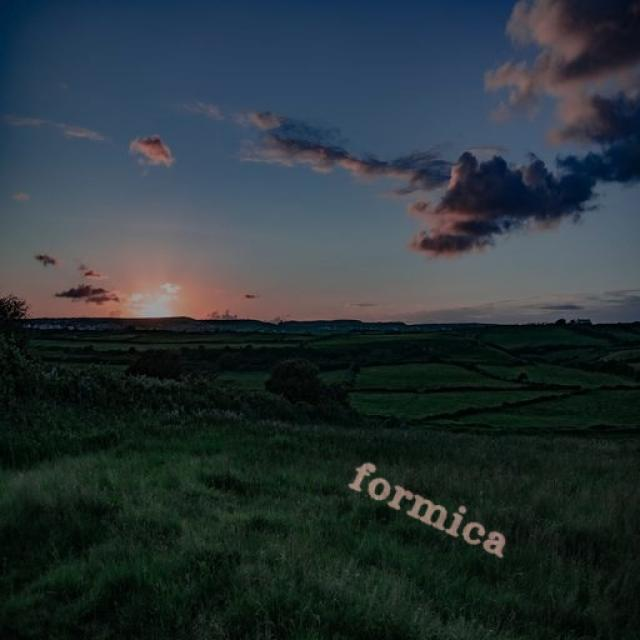watermark: (338, 455, 531, 564)
